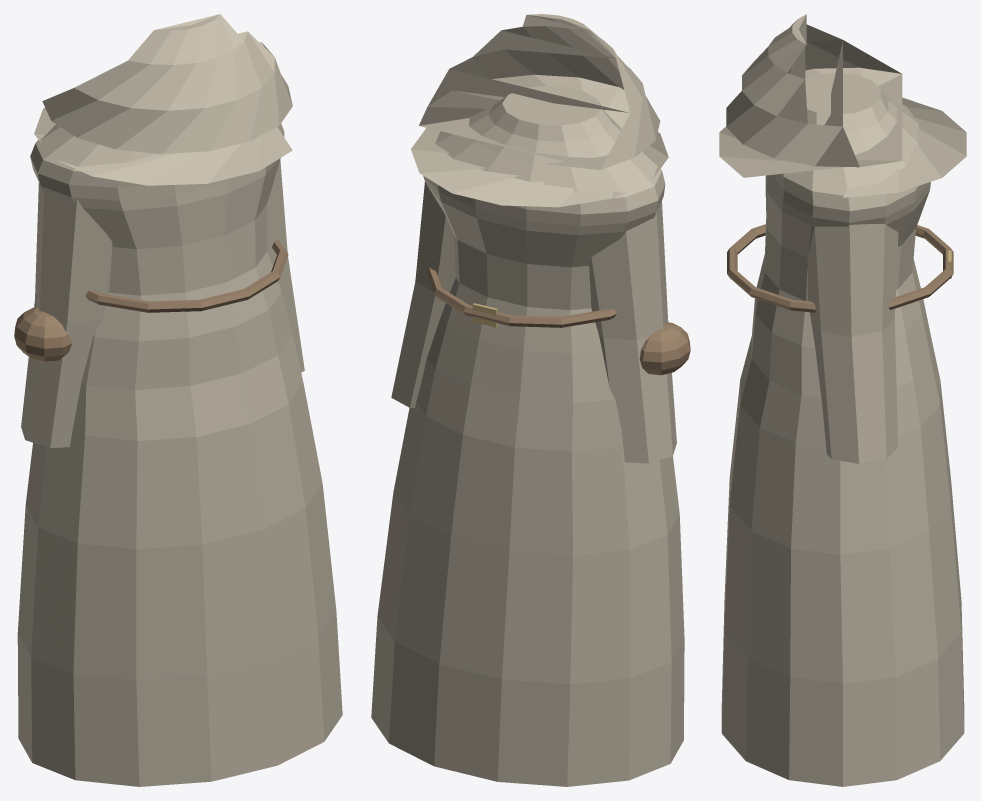
Rendered from 19-NPCs_vestimenta_anciano.glb.
3 renders of one model, left to right at view 1: azimuth 30°, elevation 25°; view 2: azimuth 150°, elevation 25°; view 3: azimuth 270°, elevation 25°, orthographic. The views are drawn at different scales.
Visible parts, largest first — view 1: SM_Tun_Tunica, SM_Tun_Capucha, SM_Tun_Mangas, SM_Tun_Cinturon, SM_Tun_Bolsa; view 2: SM_Tun_Tunica, SM_Tun_Capucha, SM_Tun_Mangas, SM_Tun_Cinturon, SM_Tun_Bolsa; view 3: SM_Tun_Tunica, SM_Tun_Capucha, SM_Tun_Mangas, SM_Tun_Cinturon.
Boxes of the visible parts, box(x1,y1,x2,y2) form: SM_Tun_Tunica: box(17, 123, 342, 786); SM_Tun_Capucha: box(34, 14, 292, 185); SM_Tun_Mangas: box(21, 160, 304, 448); SM_Tun_Cinturon: box(85, 240, 288, 312); SM_Tun_Bolsa: box(14, 307, 72, 361); SM_Tun_Tunica: box(371, 85, 684, 786); SM_Tun_Capucha: box(411, 14, 668, 207); SM_Tun_Mangas: box(391, 181, 676, 463); SM_Tun_Cinturon: box(426, 267, 617, 327); SM_Tun_Bolsa: box(639, 322, 690, 375); SM_Tun_Tunica: box(721, 73, 964, 786); SM_Tun_Capucha: box(719, 14, 966, 197); SM_Tun_Mangas: box(807, 224, 898, 463); SM_Tun_Cinturon: box(727, 224, 953, 312).
Size of the model in its own units: 0.628 by 1.4 by 0.4582.
